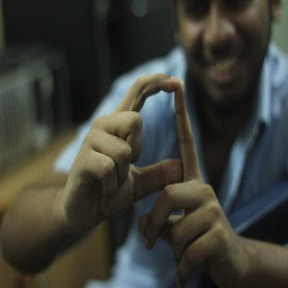D: (112, 70, 220, 220)
